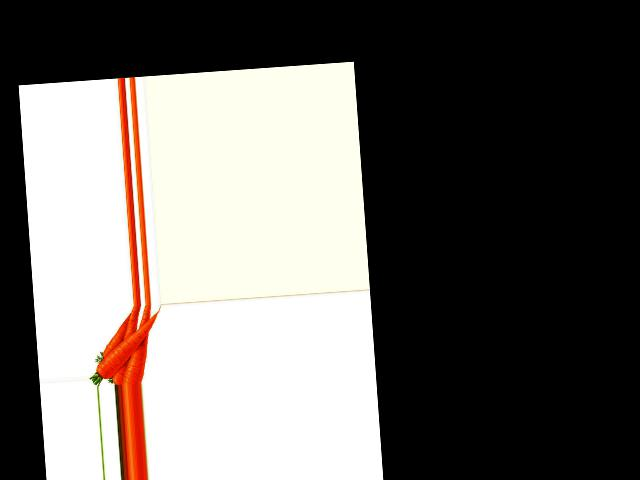carrot: (119, 323, 147, 385)
